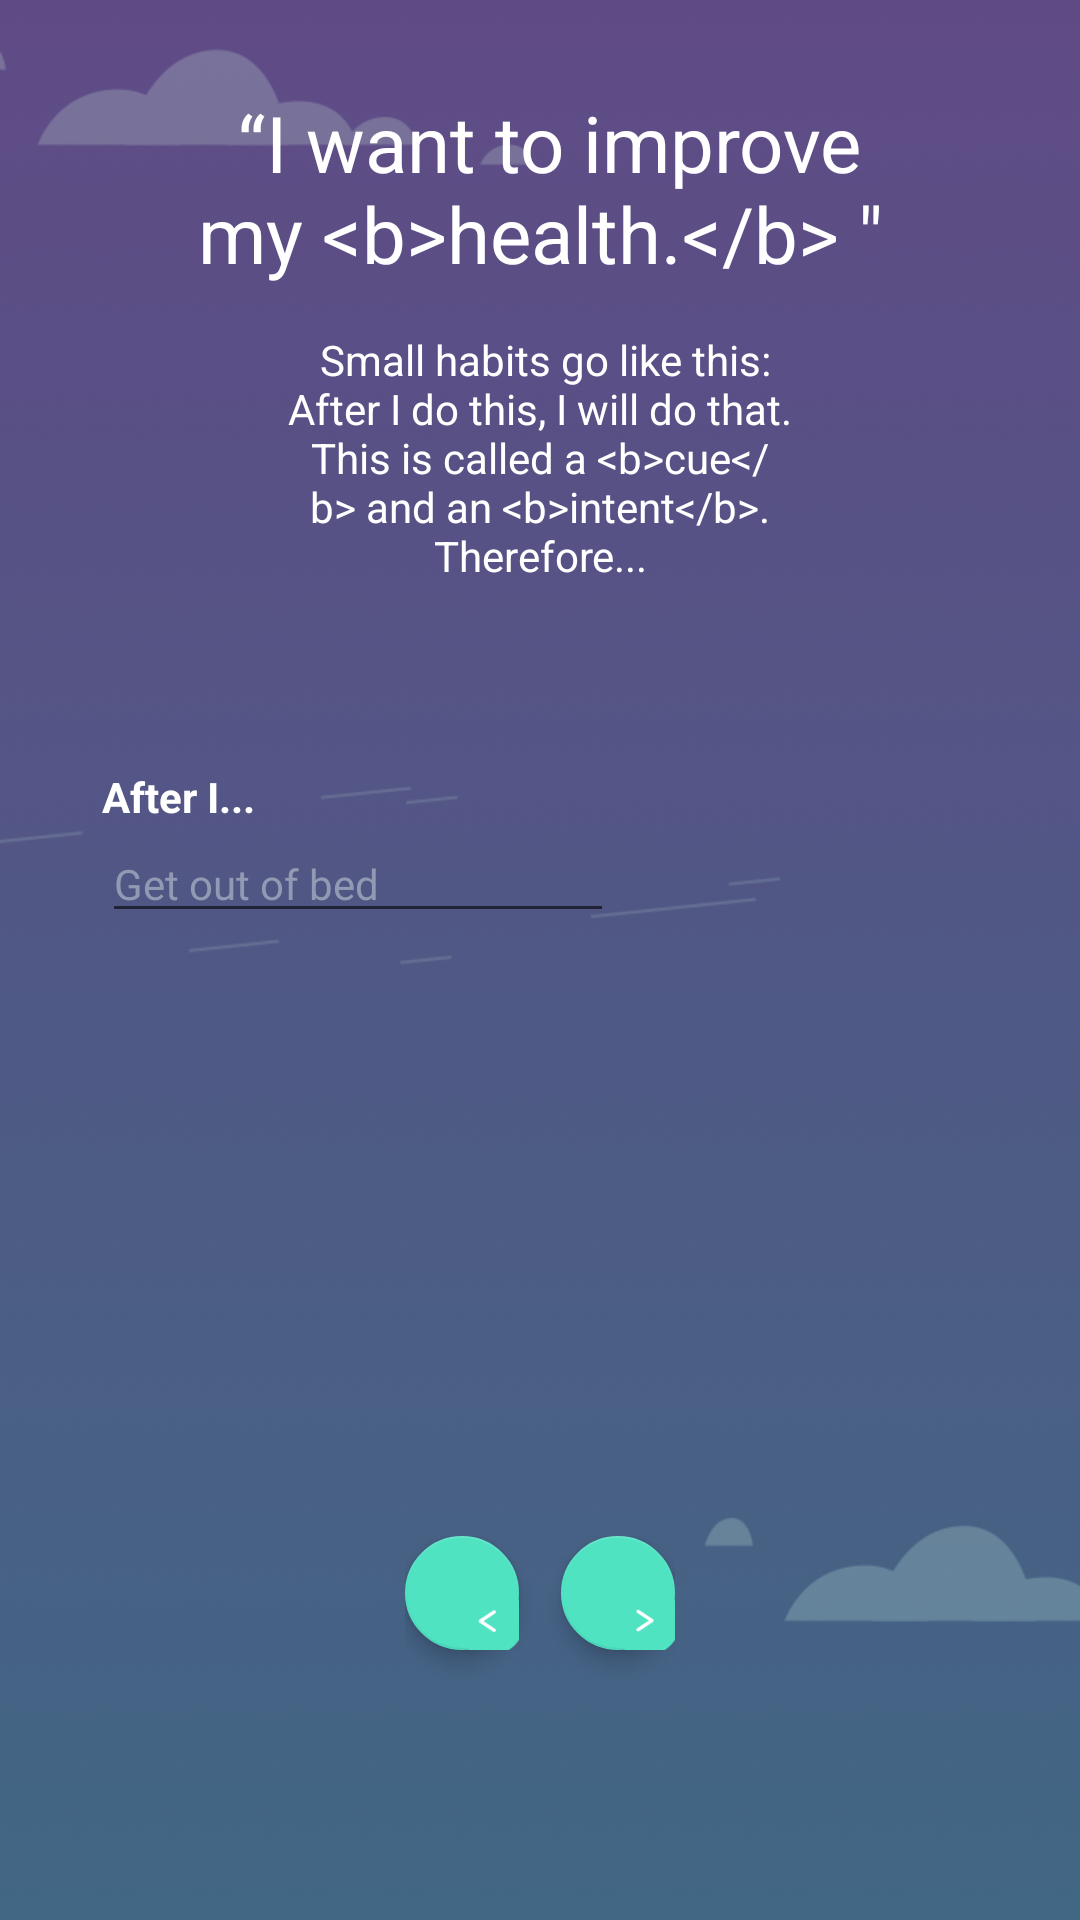

Screen size 1080px x 1920px. Icon name, then its box in pixels as (x1,y1,x2,y2):
steps next: (561,1536,675,1650)
steps previous: (405,1536,519,1650)
